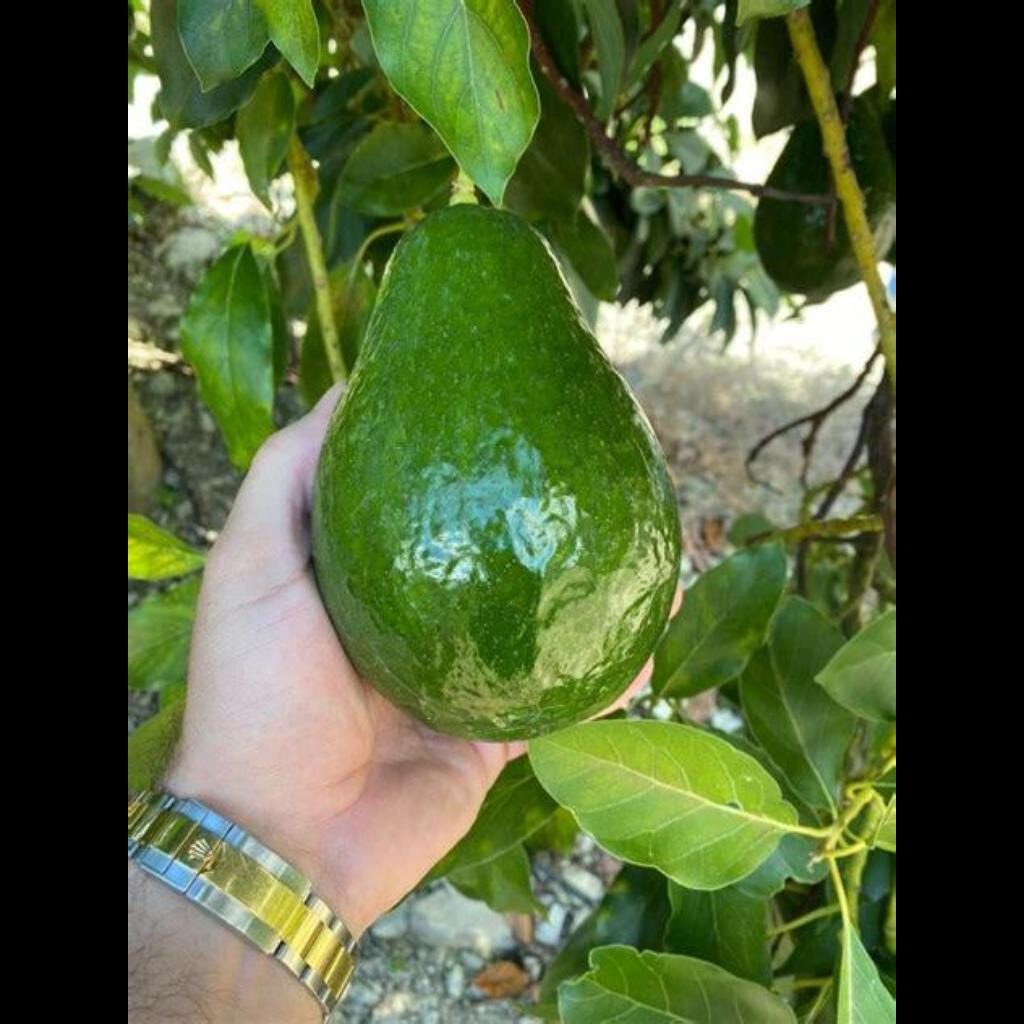Healthy: (321, 193, 699, 715)
